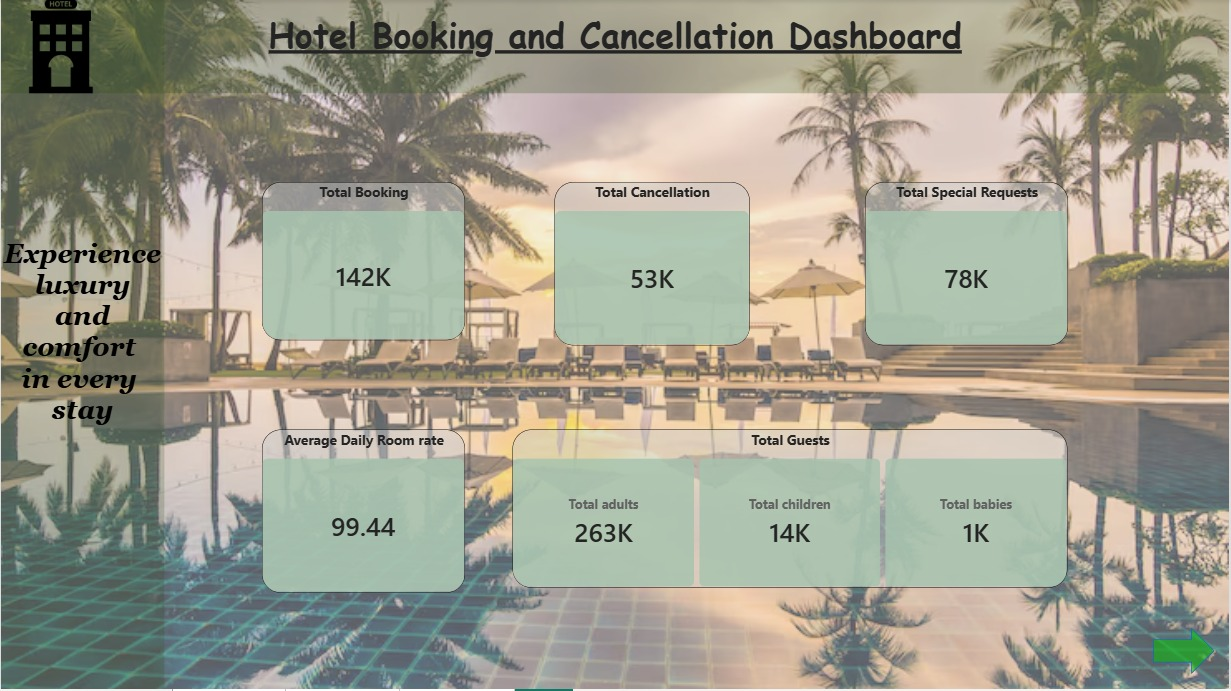

This screenshot's page, from the dashboard's own definition file:
{"tool":"powerbi","page":{"name":"Page 1","canvas":[1920,1080],"ordinal":0},"visuals":[{"type":"cardVisual","title":"Total Cancellation","fields":{"Data":["Sum(hotel booking.is_canceled)"]},"box":[865,285,305,255],"z":0},{"type":"cardVisual","title":"Average Daily Room rate","fields":{"Data":["Avg(hotel booking.adr)"]},"box":[407.5,672.5,317.5,255],"z":1000},{"type":"cardVisual","title":"Total Special Requests","fields":{"Data":["Sum(hotel booking.total_of_special_requests)"]},"box":[1350,285,317.5,255],"z":2000},{"type":"cardVisual","title":"Total Guests","fields":{"Data":["Sum(hotel booking.adults)","Sum(hotel booking.children)","Sum(hotel booking.babies)"]},"box":[800,672.5,867.5,247.5],"z":3000},{"type":"textbox","box":[0,0,1920,147.5],"z":4000},{"type":"textbox","box":[0,0,255,1080],"z":5000},{"type":"image","box":[0,0,187.5,147.5],"z":6000},{"type":"cardVisual","title":"Total Booking","fields":{"Data":["2018.total bookin"]},"box":[407.5,285,317.5,247.5],"z":7000},{"type":"shape","box":[1800.6,982.3,96.1,72.7],"z":8000}]}

Visuals, with their boxes in screenshot pixels (x1, y1, x2, y2), scaled from the page's 1920x1080 canvas onto the 1231x691 screenshot:
"Total Cancellation" cardVisual: bbox=(555, 182, 750, 346)
"Average Daily Room rate" cardVisual: bbox=(261, 430, 465, 593)
"Total Special Requests" cardVisual: bbox=(866, 182, 1069, 346)
"Total Guests" cardVisual: bbox=(513, 430, 1069, 589)
textbox: bbox=(0, 0, 1230, 94)
textbox: bbox=(0, 0, 163, 690)
image: bbox=(0, 0, 120, 94)
"Total Booking" cardVisual: bbox=(261, 182, 465, 341)
shape: bbox=(1154, 628, 1216, 675)
